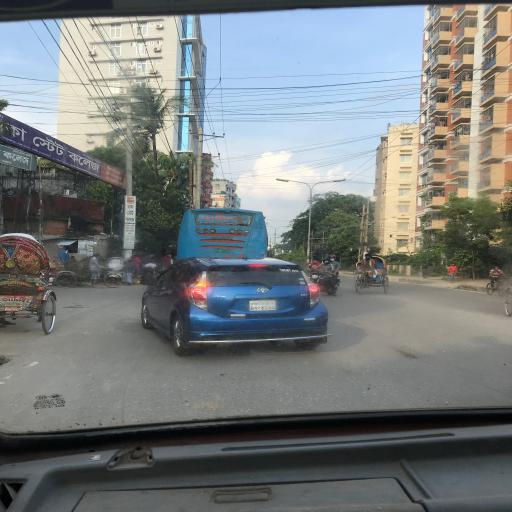bicycle: (485, 267, 509, 298)
bus: (179, 208, 270, 258)
motorbike: (311, 258, 345, 282)
rickshaw: (3, 233, 61, 336), (54, 251, 125, 291), (356, 251, 391, 299)
suv: (140, 259, 309, 357)
